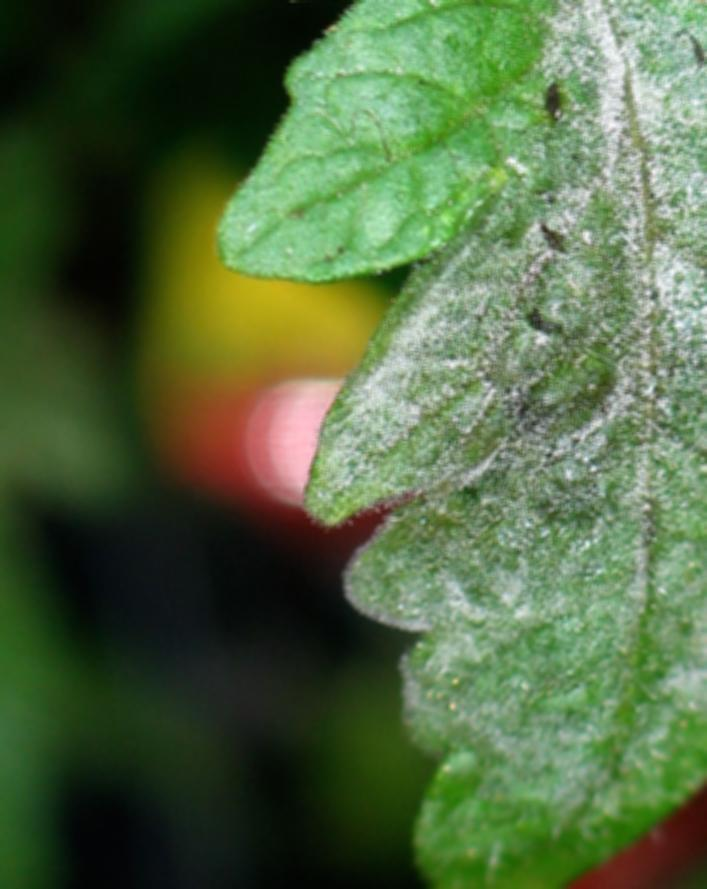Tomato leaf late blight: (227, 0, 707, 889)
